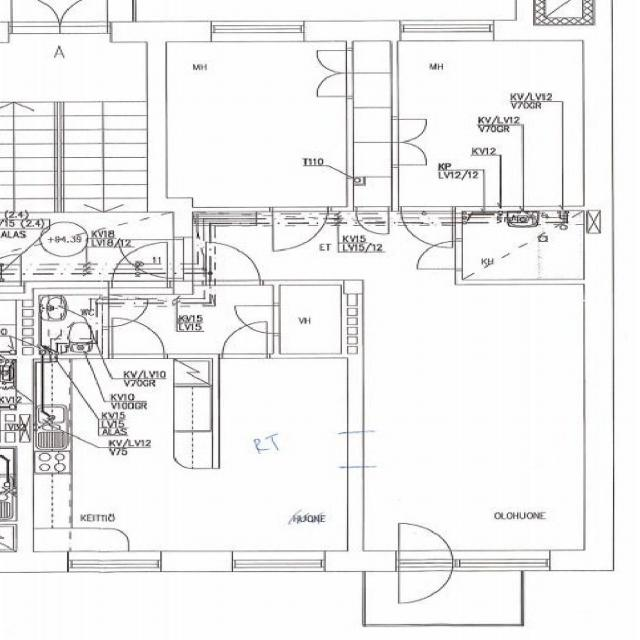door: (398, 550, 452, 610), (398, 512, 452, 572), (112, 241, 167, 294), (119, 240, 192, 278), (271, 206, 327, 251), (206, 242, 260, 285), (401, 206, 452, 248), (112, 318, 164, 359), (221, 321, 266, 359), (414, 241, 462, 270), (235, 306, 281, 333), (102, 300, 147, 326), (355, 206, 389, 235), (313, 50, 353, 73), (313, 73, 353, 96), (391, 119, 431, 142), (391, 142, 431, 164)
